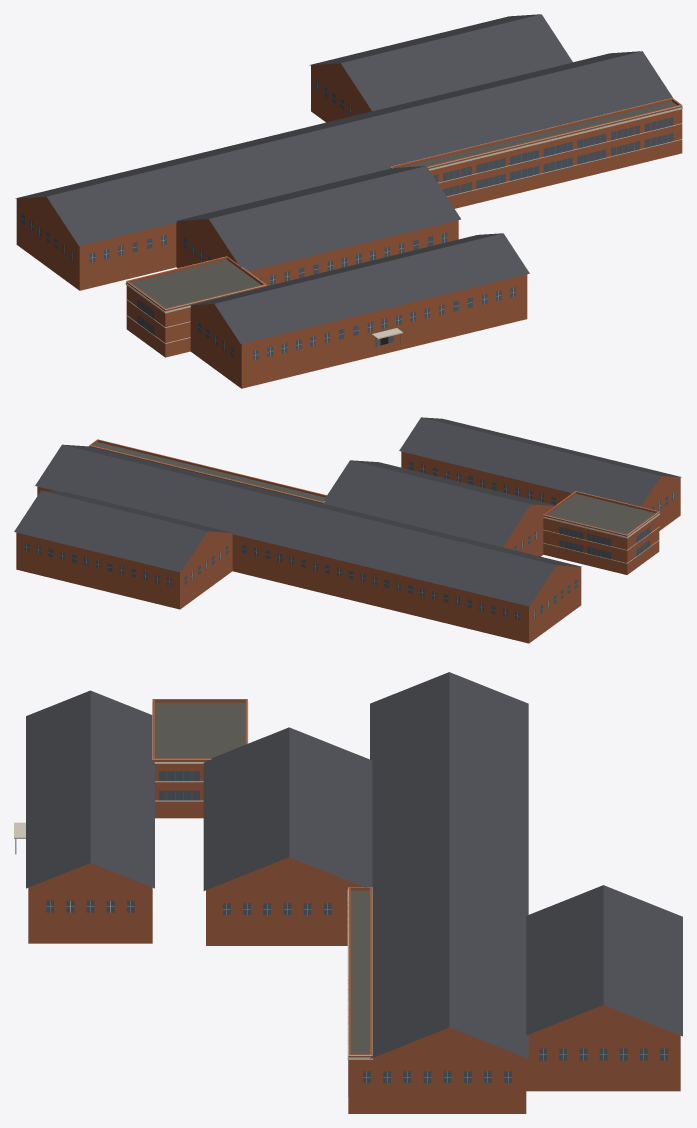
The model's file is central-arkansas-christian-school.glb.
3 renders of one model, top to bottom at view 1: azimuth 30°, elevation 25°; view 2: azimuth 150°, elevation 25°; view 3: azimuth 270°, elevation 25°, orthographic. The views are drawn at different scales.
Visible parts, largest first — view 1: central_arkansas_christian_school; view 2: central_arkansas_christian_school; view 3: central_arkansas_christian_school.
Boxes of the visible parts, box(x1,y1,x2,y2) form: central_arkansas_christian_school: box(15, 14, 682, 388); central_arkansas_christian_school: box(14, 417, 681, 643); central_arkansas_christian_school: box(14, 672, 682, 1113).
Bounding box in the file's own units: 143 × 16.72 × 113.
